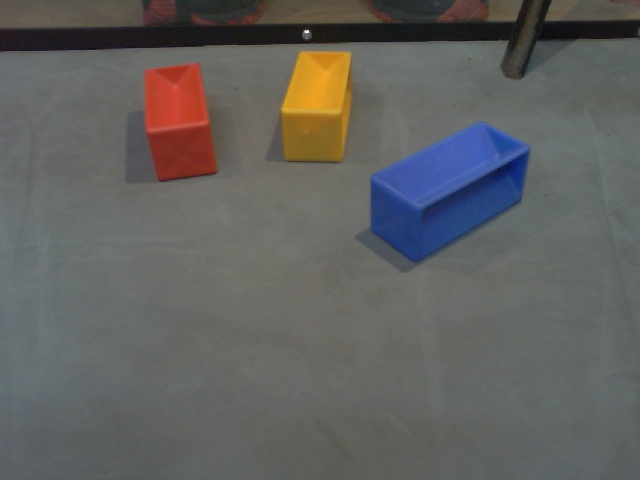BlueSample: (367, 117, 532, 263)
RedSample: (142, 61, 220, 184)
YellowSample: (278, 43, 357, 168)
